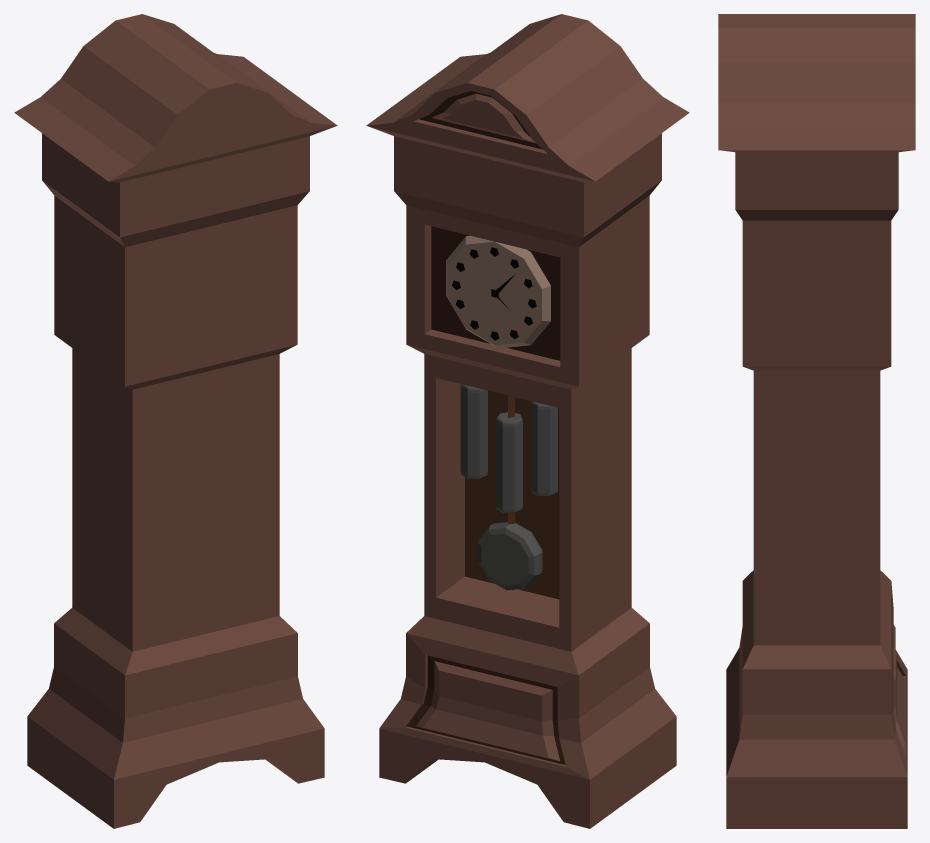
Rendered from grandfather_clock.fbx.
3 views of the same model, side by side, from view 1: azimuth 30°, elevation 25°; view 2: azimuth 150°, elevation 25°; view 3: azimuth 270°, elevation 25° (orthographic). The views are drawn at different scales.
Parts seen in each view (by area): view 1: grandfatherClock; view 2: grandfatherClock; view 3: grandfatherClock.
Part boxes in pixels (left/top/right/bottom): grandfatherClock: left=14, top=14, right=337, bottom=828; grandfatherClock: left=366, top=14, right=689, bottom=828; grandfatherClock: left=718, top=14, right=915, bottom=828.
Bounding box in the file's own units: 90.11 × 270 × 64.1.
